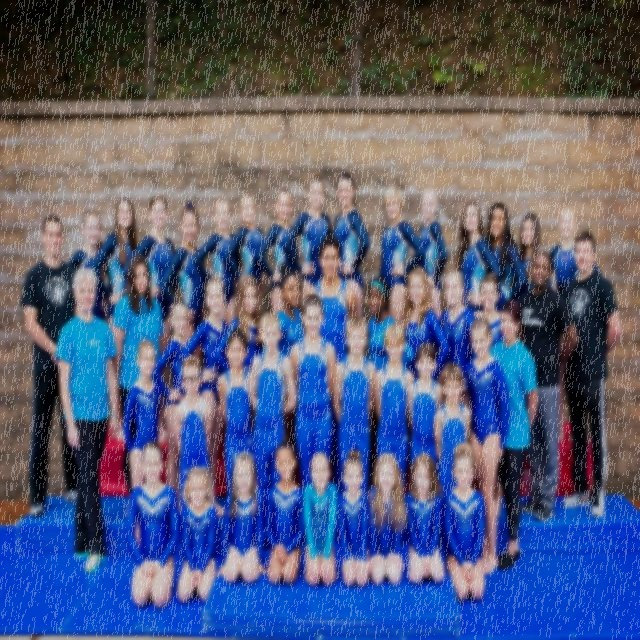pessoa: (20, 212, 86, 520), (54, 266, 120, 573), (560, 228, 624, 524), (517, 250, 579, 521), (488, 296, 538, 570), (180, 272, 230, 518), (464, 315, 510, 576), (136, 193, 180, 440), (124, 437, 180, 609), (248, 310, 297, 494), (290, 294, 336, 488), (152, 296, 192, 513), (332, 316, 378, 498), (548, 203, 580, 444), (111, 252, 165, 394), (304, 232, 360, 366), (158, 200, 210, 344), (282, 171, 334, 311), (378, 184, 428, 327), (191, 194, 243, 331), (374, 323, 414, 491), (443, 444, 486, 600), (89, 196, 138, 329), (122, 339, 164, 489), (215, 326, 252, 496), (399, 450, 445, 586), (172, 356, 213, 508), (255, 184, 300, 316), (330, 172, 370, 320), (217, 450, 260, 586), (432, 360, 473, 500), (454, 200, 504, 314), (438, 268, 478, 409), (401, 266, 448, 384), (177, 465, 216, 605), (65, 208, 111, 324), (214, 272, 264, 376), (406, 341, 444, 477), (367, 452, 405, 588), (266, 438, 301, 584), (302, 451, 338, 586), (486, 200, 528, 314), (336, 448, 370, 588), (224, 193, 268, 297), (366, 278, 414, 373), (416, 184, 448, 323), (516, 211, 554, 305), (276, 262, 305, 356), (472, 272, 504, 350)
